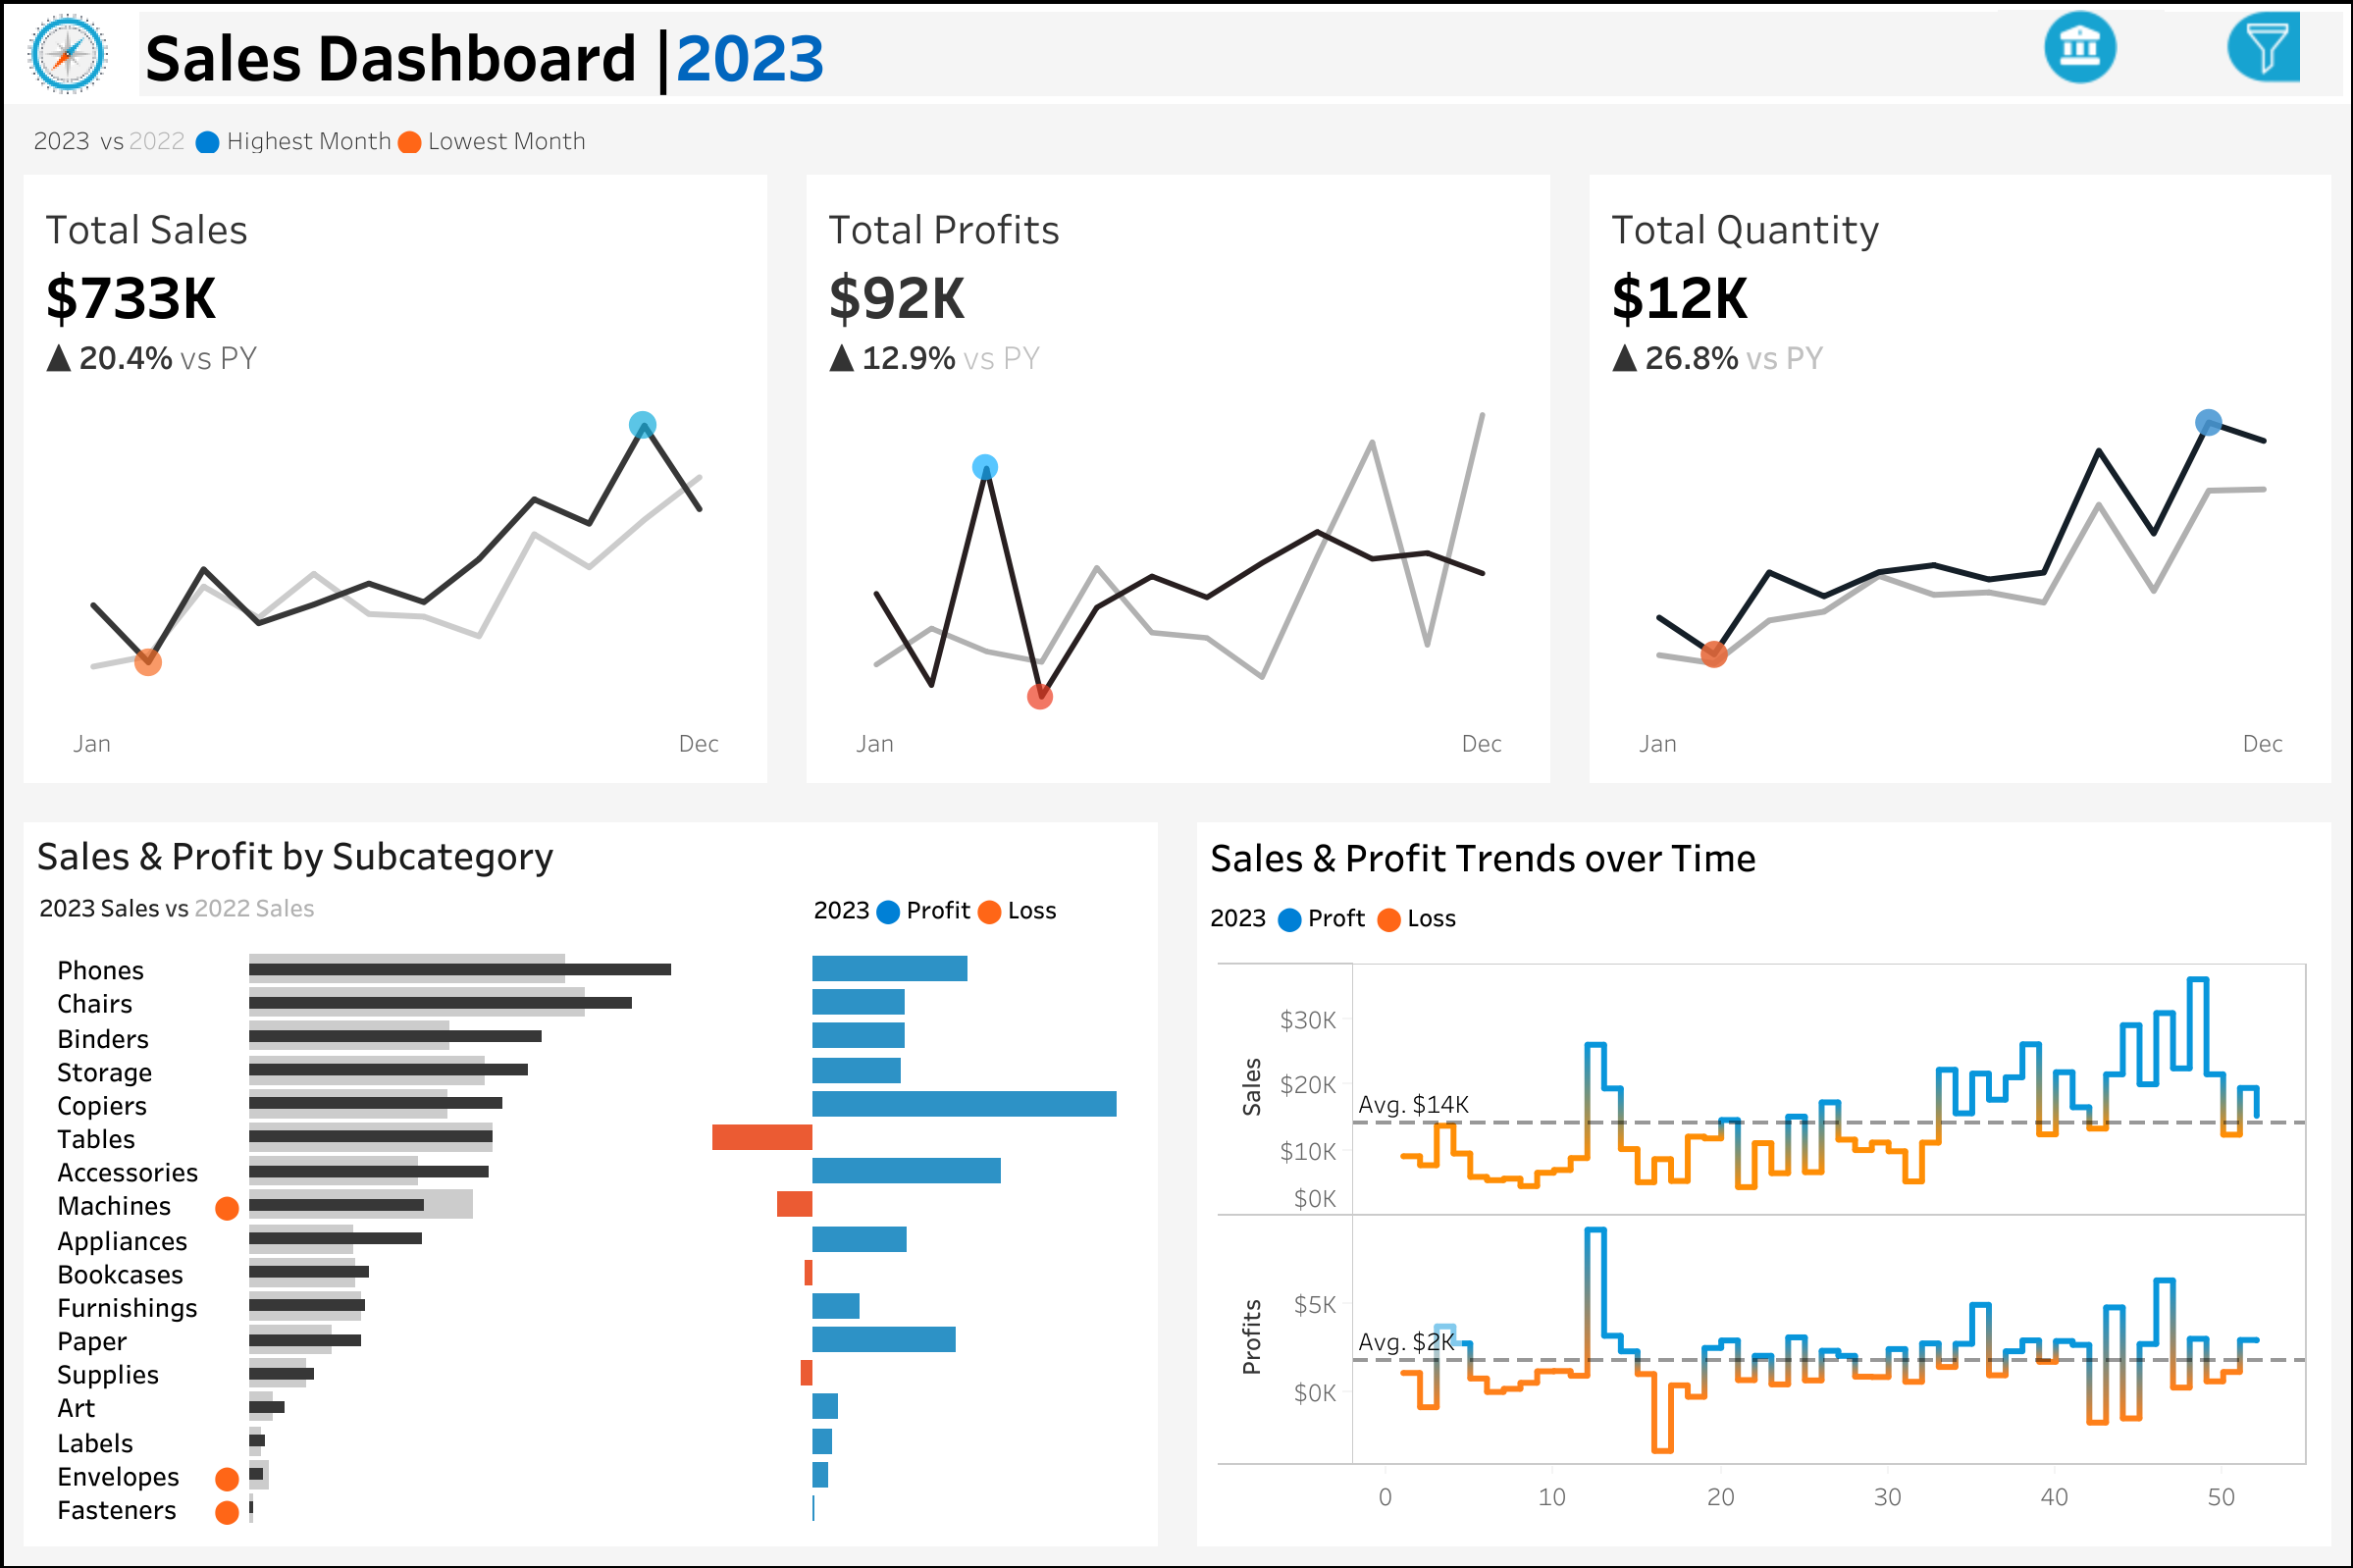

The page's visual inventory and layout, read from the dashboard file:
{"tool":"tableau","page":{"name":"Sales Dashboard","canvas":[1200,800],"ordinal":0},"visuals":[{"type":"dashboard-object","box":[1014,1,93,46]},{"type":"dashboard-object","box":[1107,1,93,46]},{"type":"image","param":"Image/Icon - Logo.png","box":[2,2,65,51]},{"type":"text","box":[67,2,1131,51]},{"type":"text","box":[1009,11,166,112]},{"type":"worksheet","title":"Legend KPI","mark":"Automatic","box":[2,53,1196,36]},{"type":"worksheet","title":"KPI Sales","mark":"Line","rows":["Calculation_65091099686567940"],"cols":["Order Date"],"box":[2,89,399,320]},{"type":"worksheet","title":"KPI Profits","mark":"Automatic","rows":["Calculation_65091099820728334"],"cols":["Order Date"],"box":[401,89,399,320]},{"type":"worksheet","title":"KPI Quantity","mark":"Automatic","rows":["Calculation_65091099836747796"],"cols":["Order Date"],"box":[800,89,398,320]},{"type":"blank","box":[1009,123,166,32]},{"type":"parameter","param":"[Parameters].[Parameter 1]","box":[1009,155,166,32]},{"type":"blank","box":[1009,187,166,34]},{"type":"text","box":[1009,221,166,29]},{"type":"filter","title":"KPI Sales","param":"[federated.0d7410o0holhi216lxxvh1c0fuj2].[none:Category:nk]","box":[1009,250,166,52]},{"type":"filter","title":"KPI Sales","param":"[federated.0d7410o0holhi216lxxvh1c0fuj2].[none:Sub-Category:nk]","box":[1009,302,166,52]},{"type":"text","box":[1009,354,166,32]},{"type":"filter","title":"KPI Sales","param":"[federated.0d7410o0holhi216lxxvh1c0fuj2].[none:Region:nk]","box":[1009,386,166,52]},{"type":"text","box":[12,419,578,32]},{"type":"text","box":[610,419,578,35]},{"type":"filter","title":"KPI Sales","param":"[federated.0d7410o0holhi216lxxvh1c0fuj2].[none:State:nk]","box":[1009,438,166,52]},{"type":"worksheet","title":"Legend Subcategory","mark":"Automatic","box":[12,451,396,23]},{"type":"text","box":[408,451,182,23]},{"type":"text","box":[610,454,578,26]},{"type":"worksheet","title":"Subcategory Comparison","mark":"Bar","rows":["Sub-Category","Calculation_65091099847610391"],"cols":["Current year sales (copy)_65091099666563073","Calculation_65091099665899520","Calculation_65091099809869834"],"box":[12,474,578,314]},{"type":"worksheet","title":"Weekly Trends","mark":"Automatic","rows":["Calculation_65091099665899520","vtavg"],"cols":["Order Date"],"box":[610,480,578,308]},{"type":"filter","title":"KPI Sales","param":"[federated.0d7410o0holhi216lxxvh1c0fuj2].[none:City:nk]","box":[1009,490,166,52]}]}

Visuals, with their boxes in screenshot pixels (x1, y1, x2, y2), scaled from the page's 1200x800 canvas onto the 2353x1568 screenshot:
dashboard-object: (1988,2,2170,92)
dashboard-object: (2170,2,2352,92)
image: (4,4,131,104)
text: (131,4,2349,104)
text: (1978,22,2304,241)
"Legend KPI" worksheet: (4,104,2349,175)
"KPI Sales" worksheet (Line marks): (4,175,786,802)
"KPI Profits" worksheet: (786,175,1569,802)
"KPI Quantity" worksheet: (1569,175,2349,802)
blank: (1978,241,2304,304)
parameter: (1978,304,2304,367)
blank: (1978,367,2304,433)
text: (1978,433,2304,490)
"KPI Sales" filter: (1978,490,2304,592)
"KPI Sales" filter: (1978,592,2304,694)
text: (1978,694,2304,757)
"KPI Sales" filter: (1978,757,2304,859)
text: (24,821,1157,884)
text: (1196,821,2329,890)
"KPI Sales" filter: (1978,859,2304,961)
"Legend Subcategory" worksheet: (24,884,800,929)
text: (800,884,1157,929)
text: (1196,890,2329,941)
"Subcategory Comparison" worksheet (Bar marks): (24,929,1157,1544)
"Weekly Trends" worksheet: (1196,941,2329,1544)
"KPI Sales" filter: (1978,961,2304,1063)
